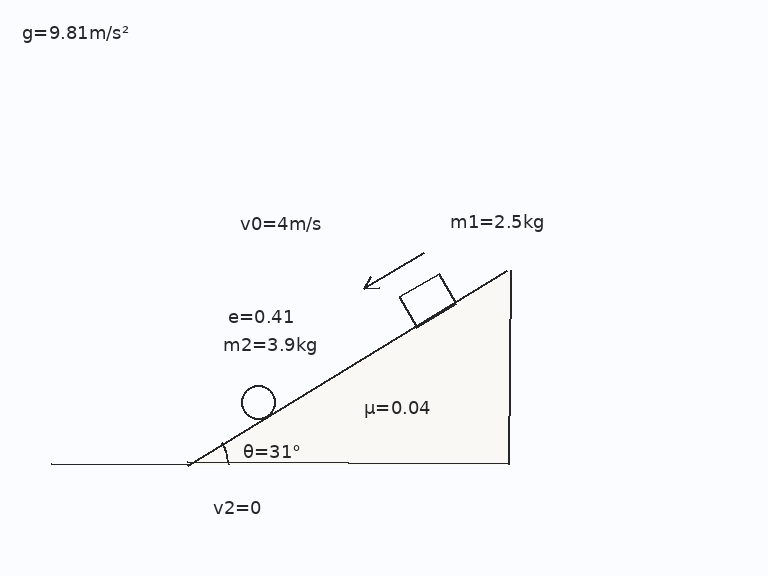ball: (239, 383, 277, 421)
block: (397, 272, 458, 329)
ramp: (186, 269, 511, 466)
